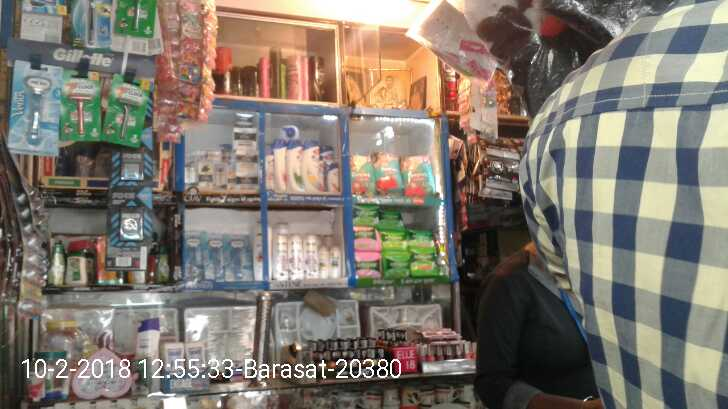venus: (12, 60, 57, 157), (226, 233, 252, 282), (202, 232, 226, 282), (183, 232, 202, 281)
